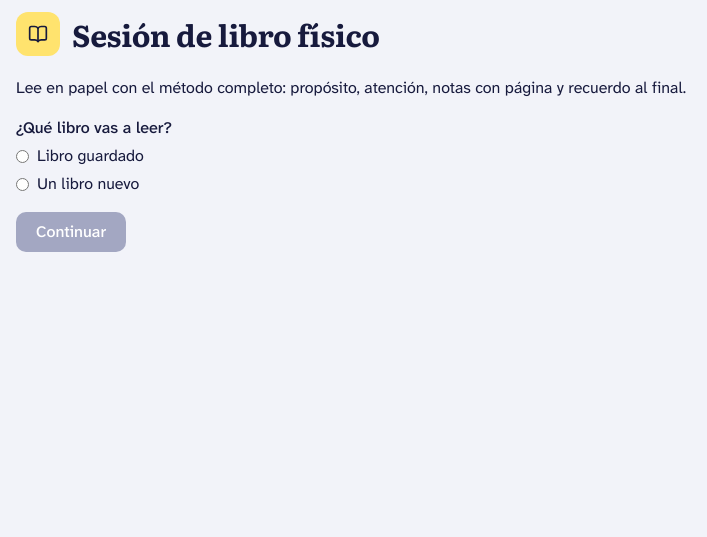
Test: PhysicalSessionPage › permite volver a estimar las palabras por página de un libro
Click the radio button labelled "Libro guardado" at point(22, 156), box [16, 150, 29, 162]
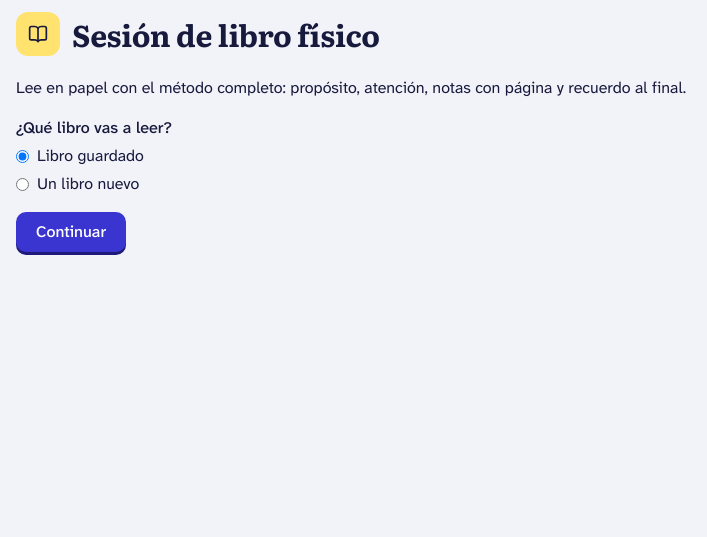
Click the button "Continuar" at point(71, 232), box [16, 212, 126, 252]
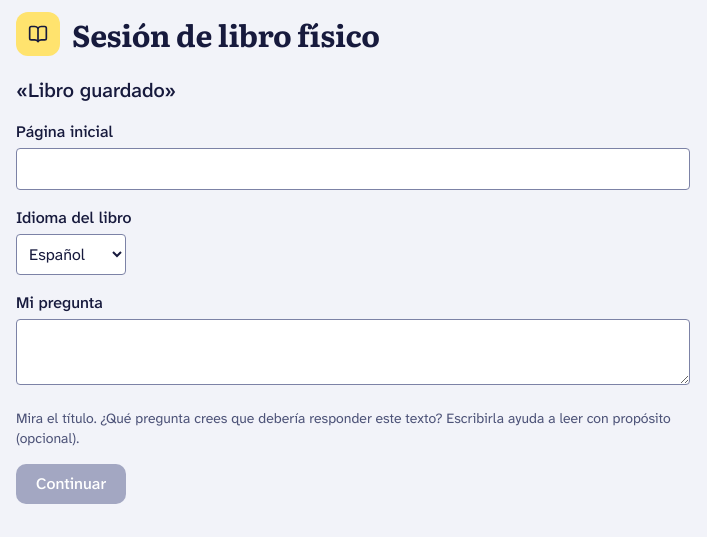
Type "1" into the field labelled "Página inicial" at point(353, 169), box [16, 148, 690, 190]
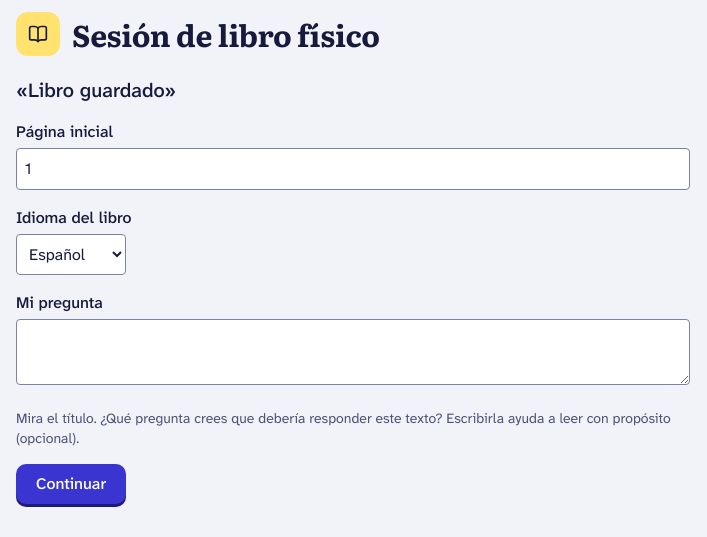
Click the button "Continuar" at point(71, 484), box [16, 464, 126, 504]
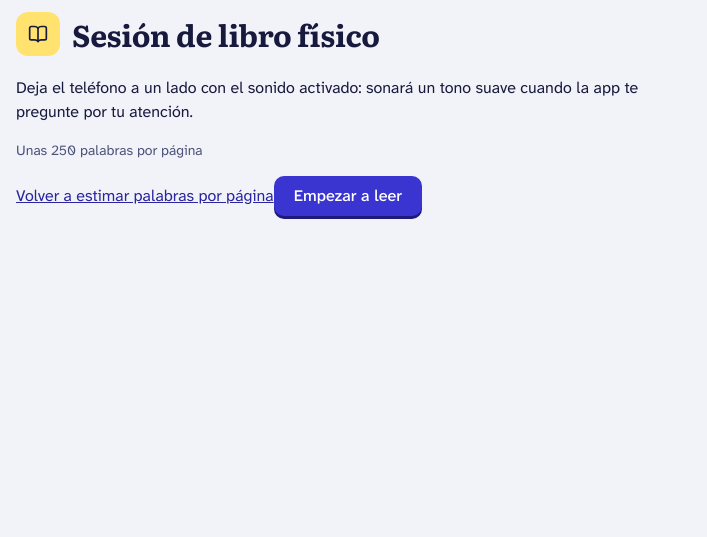
Click the button "Volver a estimar palabras por página" at point(145, 196), box [16, 184, 274, 208]
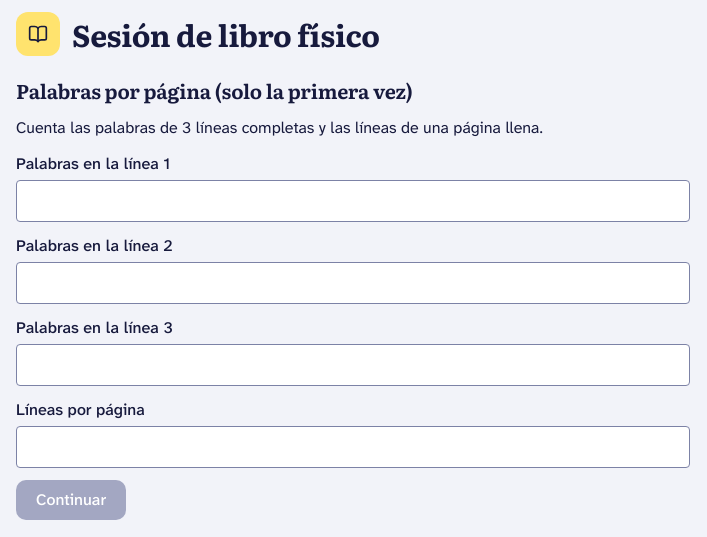
Check: the field labelled "Líneas por página" is shown, box [16, 426, 690, 468]
